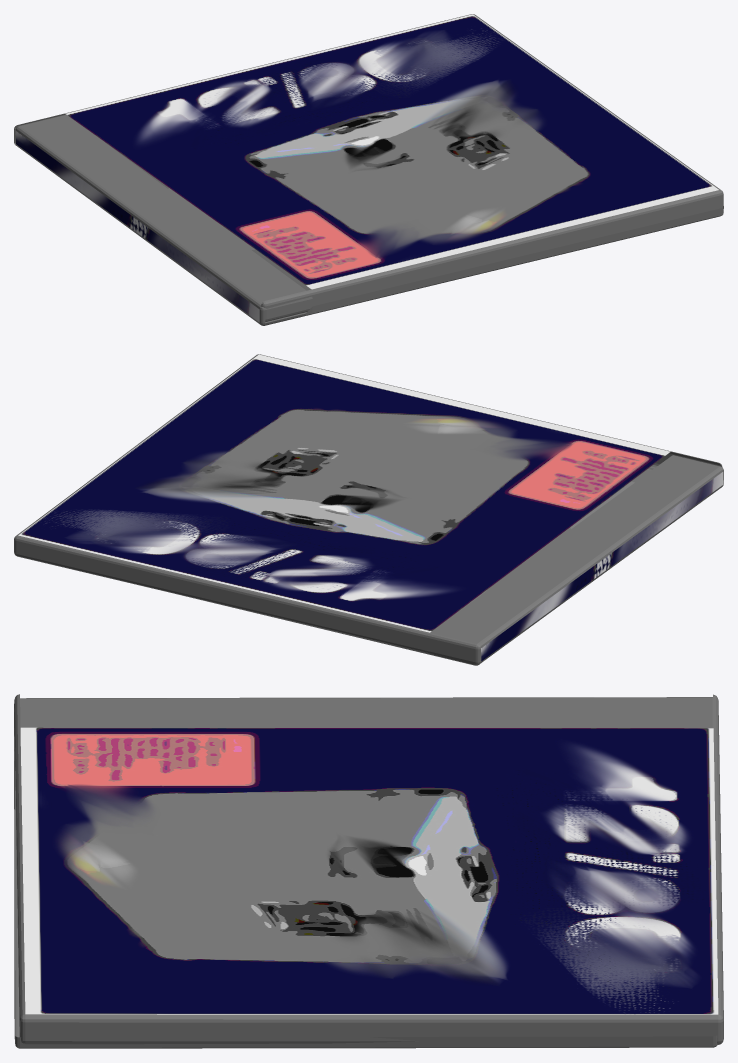
3 views of the same model, one above another, from view 1: azimuth 30°, elevation 25°; view 2: azimuth 150°, elevation 25°; view 3: azimuth 270°, elevation 25° (orthographic). The views are drawn at different scales.
Parts seen in each view (by area): view 1: SM_CD_CASE_DOWN; view 2: SM_CD_CASE_DOWN; view 3: SM_CD_CASE_DOWN.
Boxes of the visible parts, x1=… form: SM_CD_CASE_DOWN: x1=14, y1=14, x2=723, y2=325; SM_CD_CASE_DOWN: x1=14, y1=354, x2=723, y2=665; SM_CD_CASE_DOWN: x1=14, y1=694, x2=723, y2=1048.
Bounding box in the file's own units: 218 × 11.7 × 202.
Materials: 1 (1 with a texture image).
